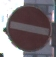No entry: (5, 5, 51, 51)
